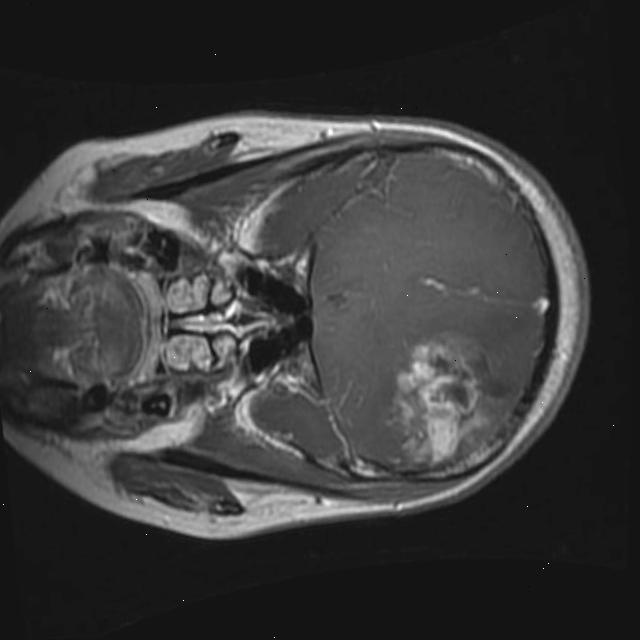Glioma: (380, 325, 514, 472)
